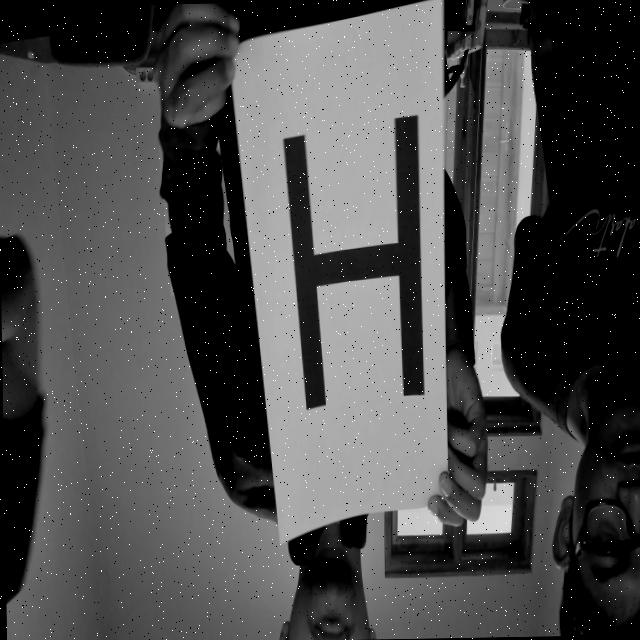h: (265, 80, 439, 426)
